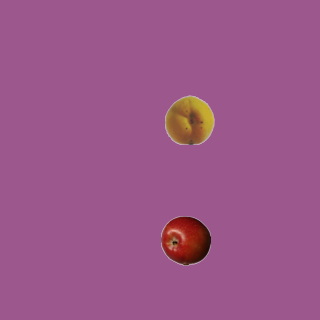Apple Braeburn: (160, 215, 210, 265)
Peach 2: (164, 94, 214, 144)
